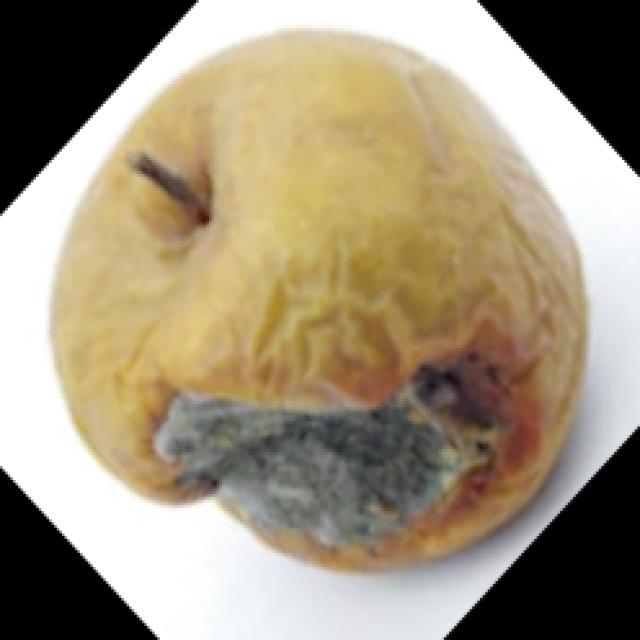Rotten: (78, 53, 610, 612)
